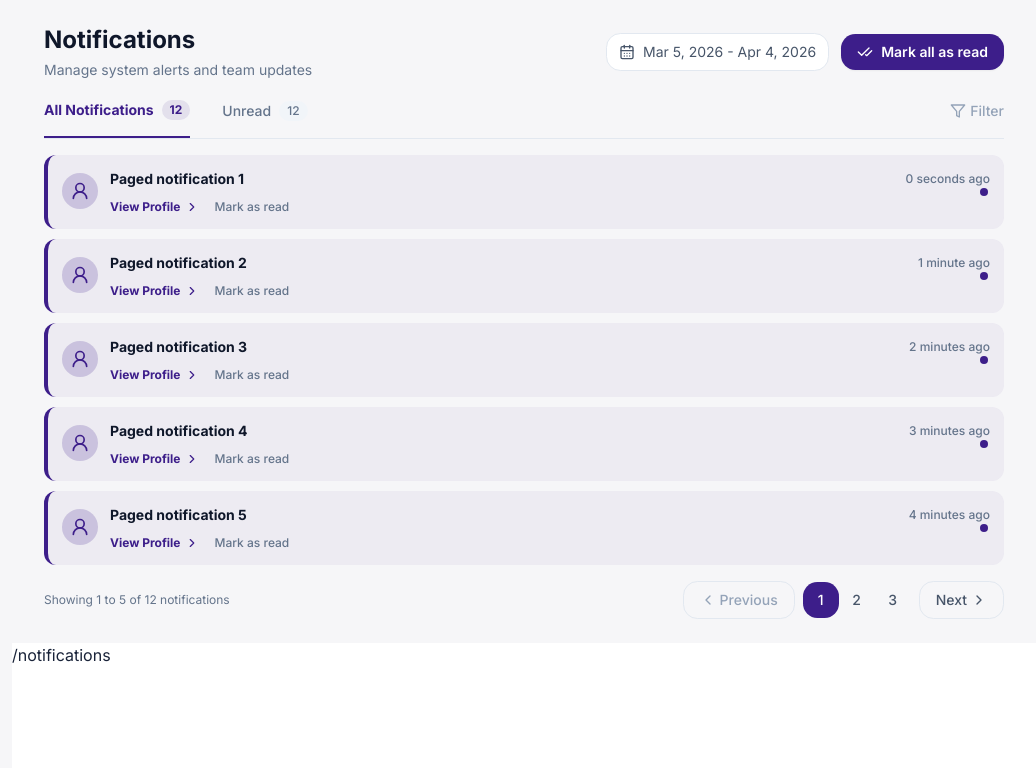
Notifications page › supports pagination next and previous
Check: the button "Paged notification 1" is shown, box [110, 169, 260, 189]
Check: the button "Paged notification 5" is shown, box [110, 505, 263, 525]
Click the button "Next" at [961, 600], box [919, 581, 1004, 619]
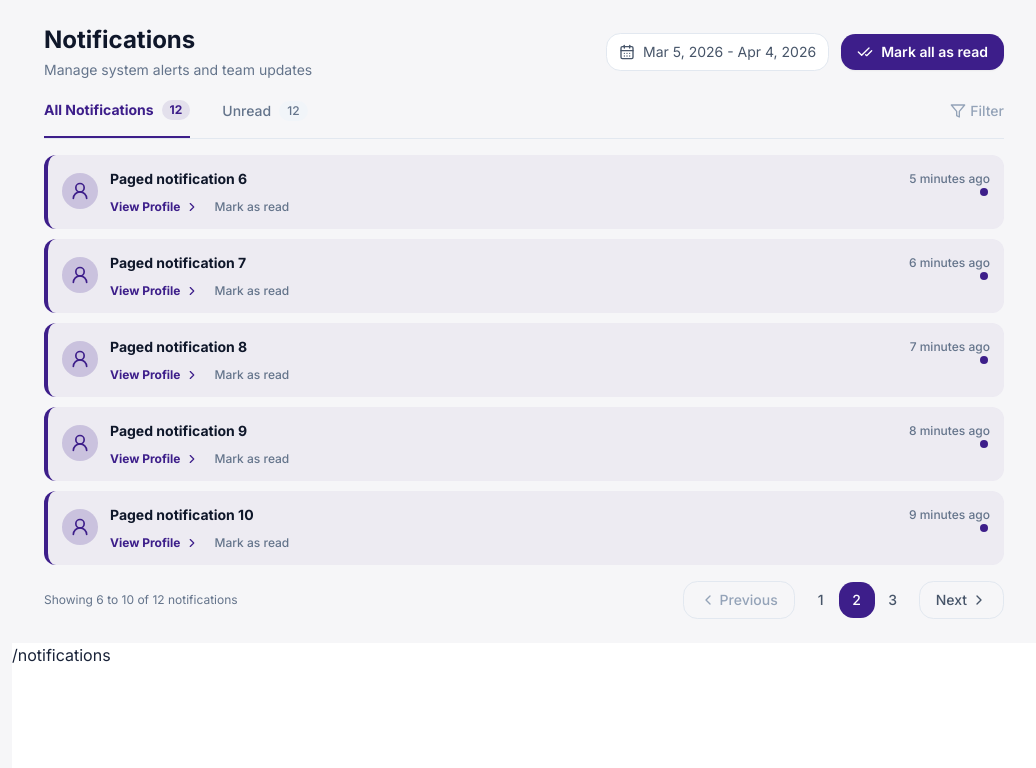
Check: the button "Paged notification 6" is shown, box [110, 169, 263, 189]
Check: the button "Paged notification 10" is shown, box [110, 505, 270, 525]
Click the button "Previous" at [739, 600], box [683, 581, 795, 619]
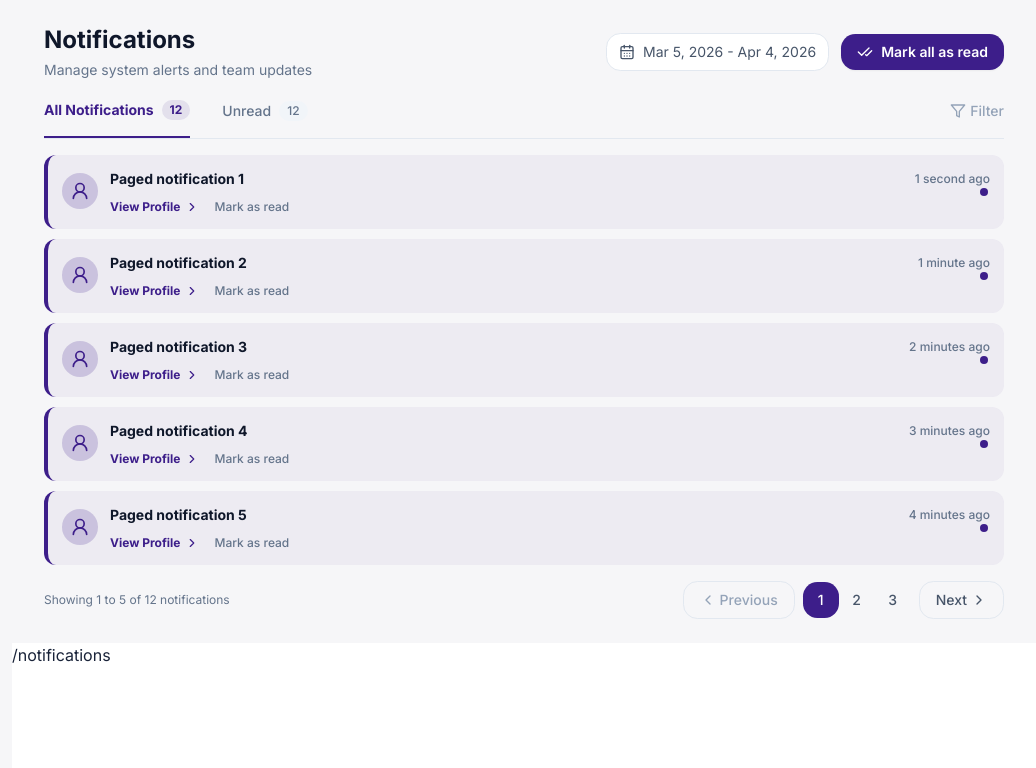
Check: the button "Paged notification 1" is shown, box [110, 169, 260, 189]
